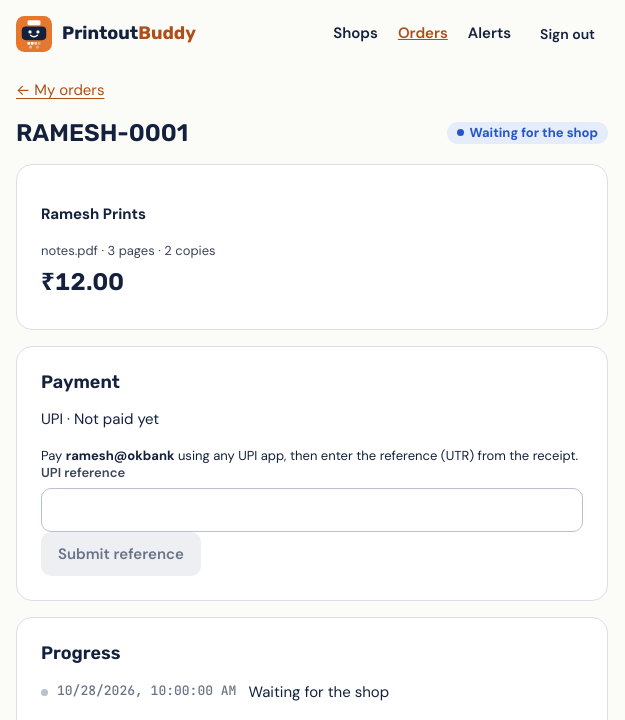
Test: my orders › UPI order: pay instructions, reference submission, and no cancel once a reference is pending
The image size is (625, 720).
Expected: the text "ramesh@okbank" is shown, [66,447,174,464]
Expected: the button "Submit reference" is disabled, [41,532,201,576]
Step 1. Type "utr123456789" into the field labelled "UPI reference" → (312, 510), box [54,491,570,529]
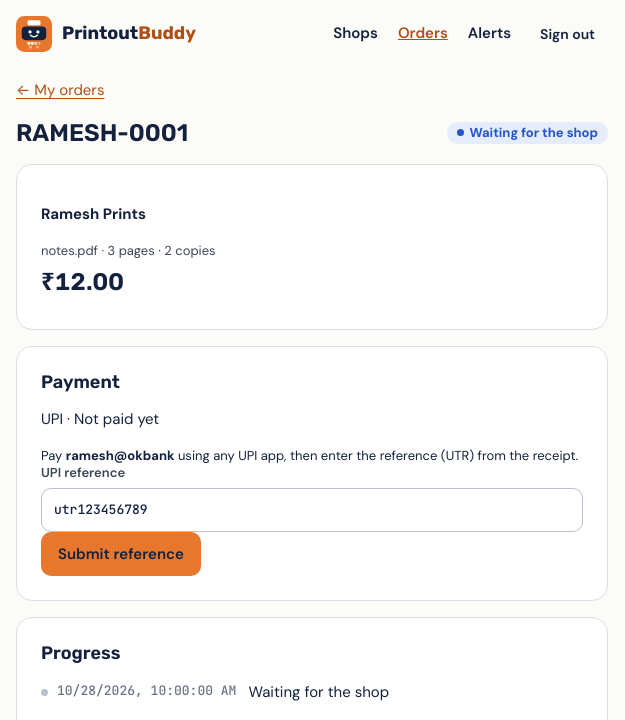
Step 2. Click the button "Submit reference" → click(121, 554), box [41,532,201,576]
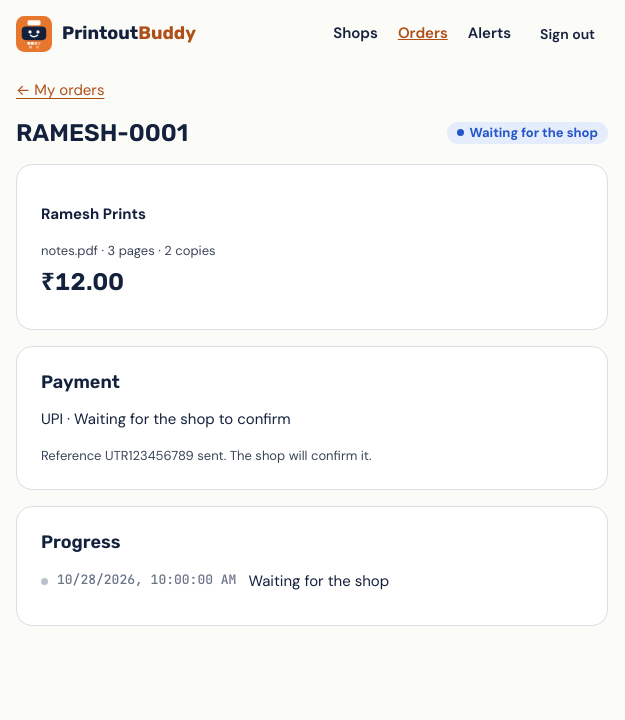
Result: the text "UPI · Waiting for the shop to confirm" is shown at [41,409,291,429]
